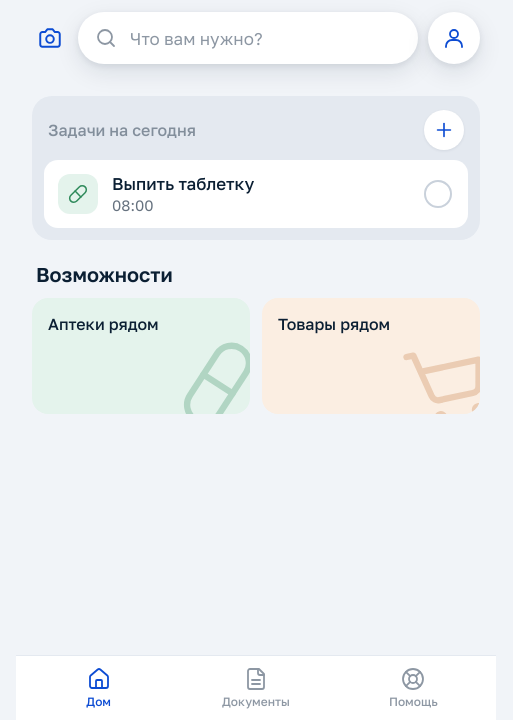
Test: App › поиск открывает вкладку
Step 1. Type "паспорт" into the field labelled "Что вам нужно?" → (265, 38), box [128,12,402,64]
Then press Enter
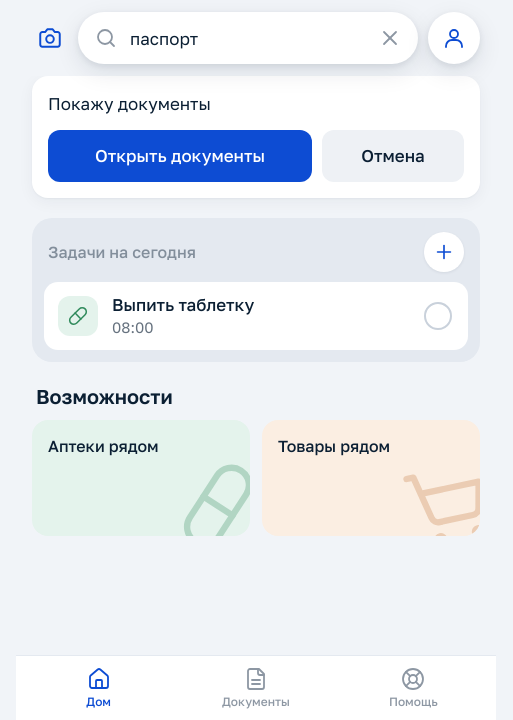
Now the text "Покажу документы" is shown, box [48,93,211,114]
Step 2. Click the button "Открыть документы" → (180, 156), box [48,130,312,182]
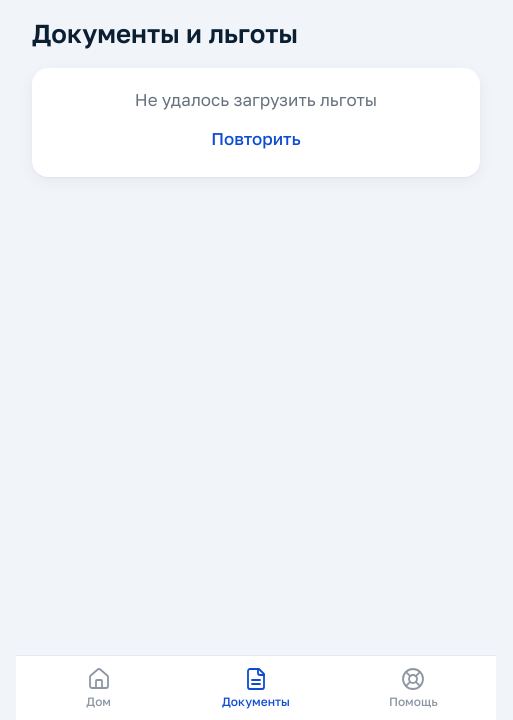
Now the heading "Документы и льготы" is shown, box [32,18,298,49]
